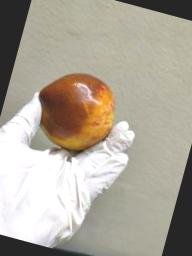Apple Rotten: (24, 62, 124, 165)
